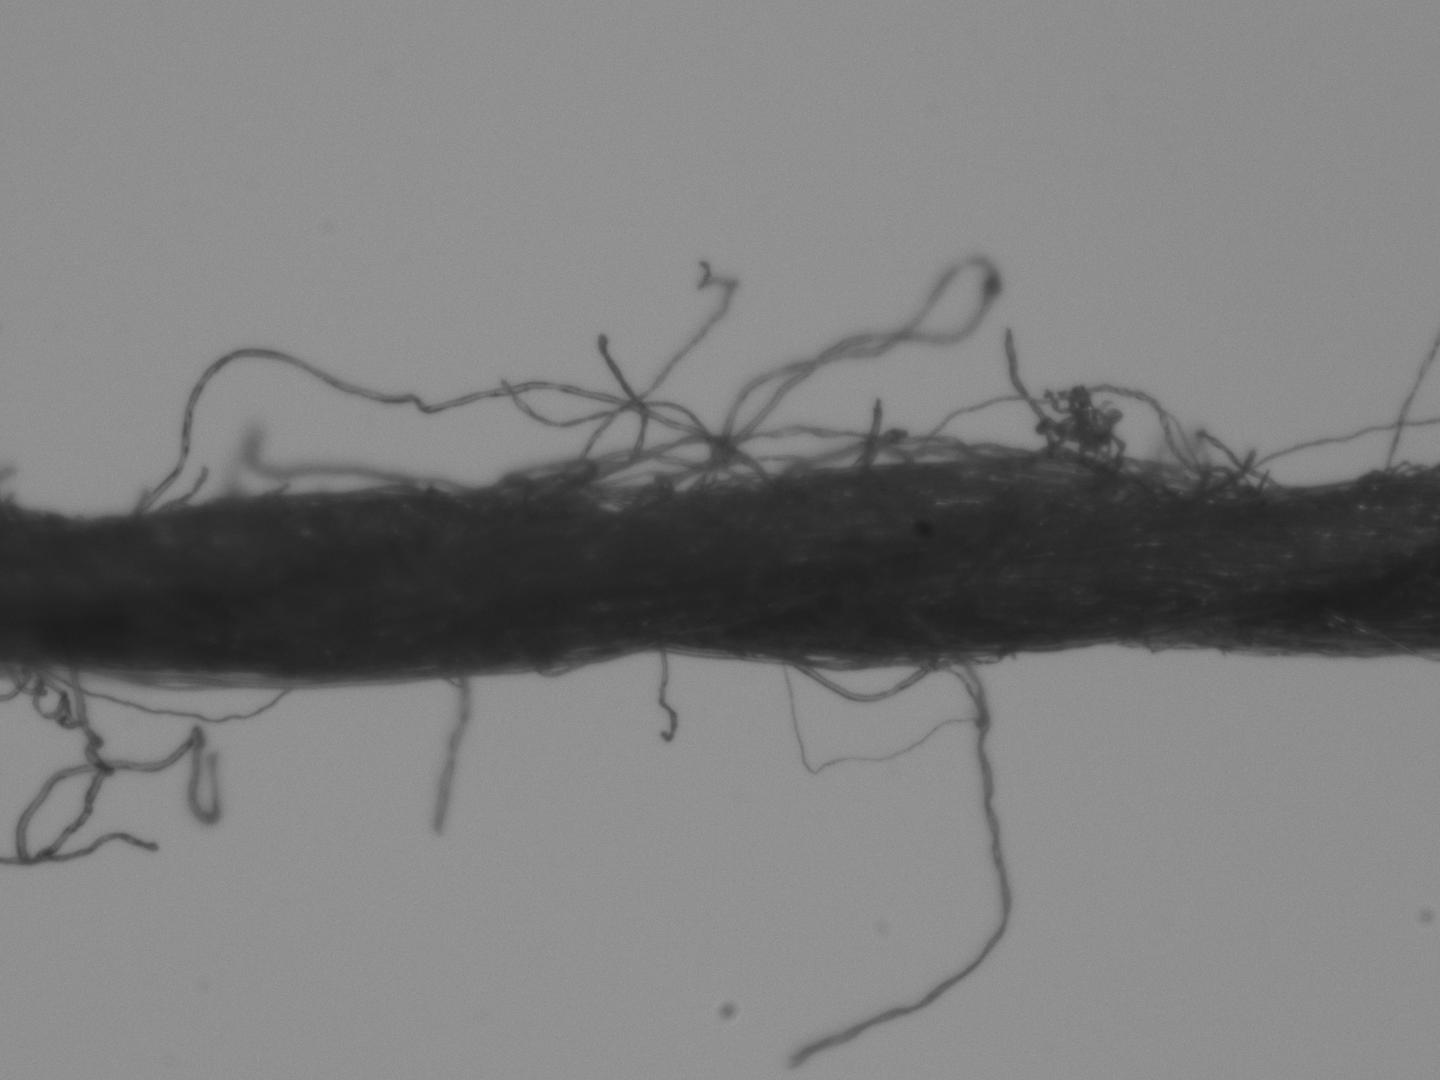loop_fiber: (125, 347, 772, 517), (1042, 380, 1234, 490), (32, 664, 293, 723), (788, 651, 941, 702), (791, 434, 904, 476), (913, 441, 1028, 463), (531, 660, 590, 681)
